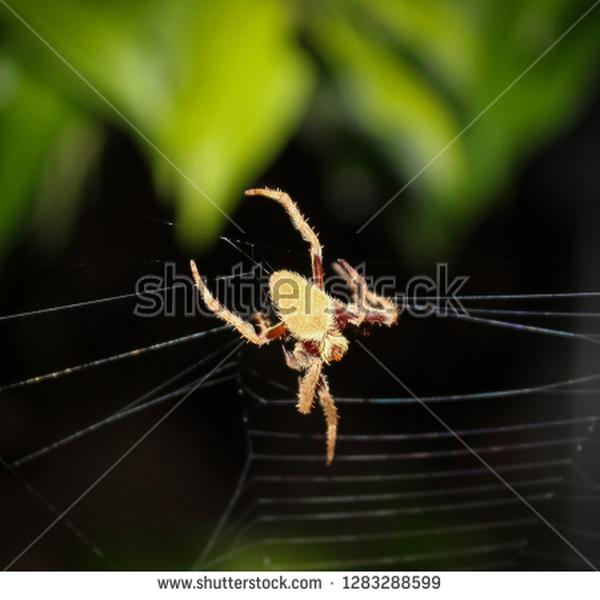Garden Orb Weaver Spider: (192, 188, 399, 463)
